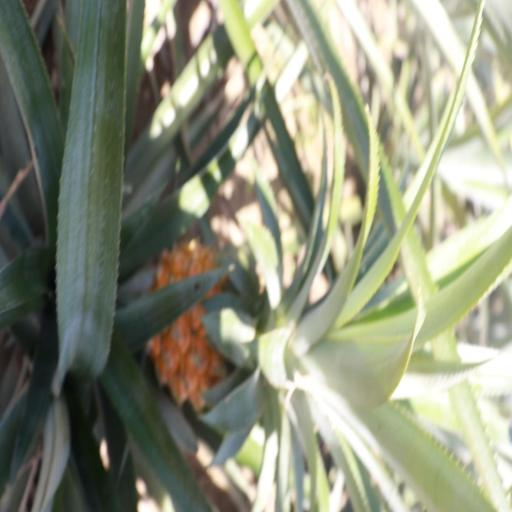Pineapple - v8 v1: (154, 241, 424, 408)
